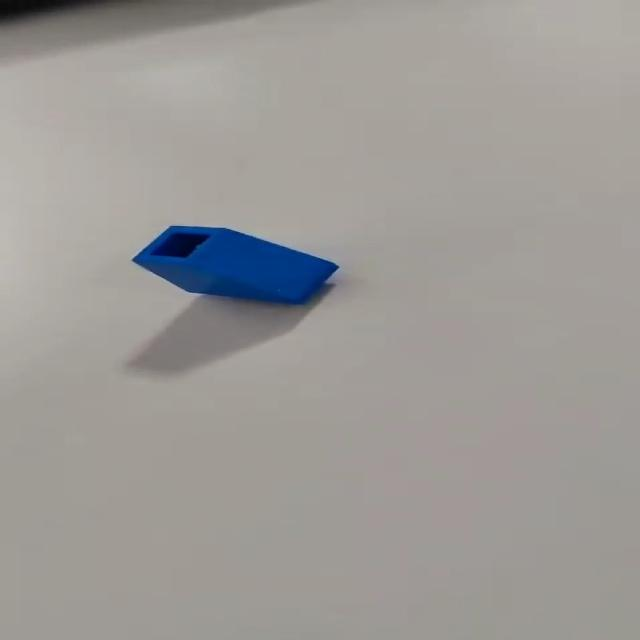X1x2x1: (127, 220, 344, 311)
